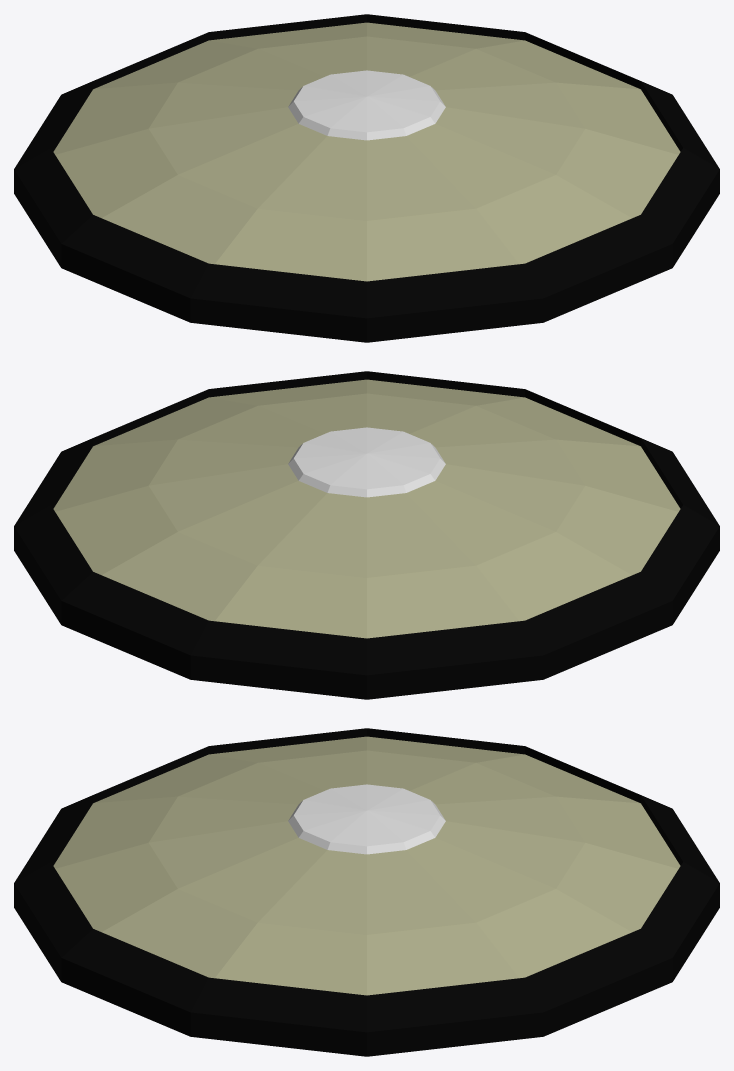
The model's file is Shield_4.fbx.
The picture shows the model from 3 angles, top to bottom: view 1: azimuth 30°, elevation 25°; view 2: azimuth 150°, elevation 25°; view 3: azimuth 270°, elevation 25°; orthographic projection.
Visible parts, largest first — view 1: Round_Shield; view 2: Round_Shield; view 3: Round_Shield.
Part boxes in pixels (x1,y1,x2,y2): Round_Shield: [14, 14, 719, 342]; Round_Shield: [14, 371, 719, 699]; Round_Shield: [14, 728, 719, 1056].
Size of the model in its own units: 59.7 by 9.05 by 59.7.
